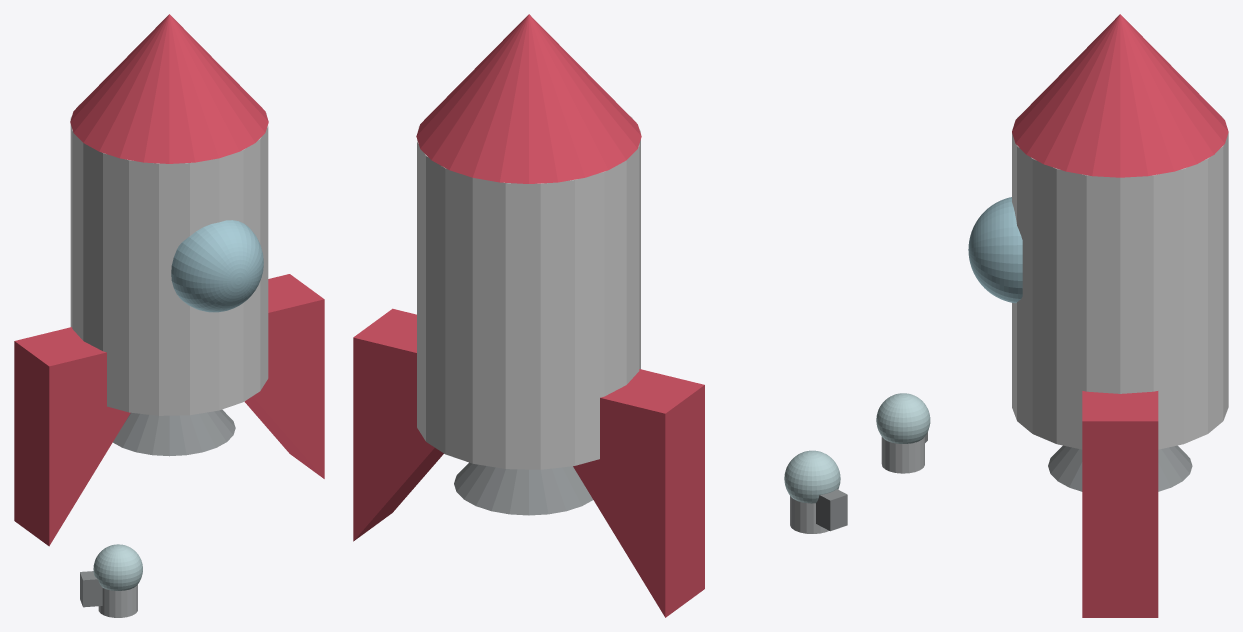
The model's file is spaceship.glb.
3 views of the same model, side by side, from view 1: azimuth 30°, elevation 25°; view 2: azimuth 150°, elevation 25°; view 3: azimuth 270°, elevation 25° (orthographic). The views are drawn at different scales.
Visible parts, largest first — view 1: Mesh_Mesh_head_geo.001_lambert2SG.001; view 2: Mesh_Mesh_head_geo.001_lambert2SG.001; view 3: Mesh_Mesh_head_geo.001_lambert2SG.001.
Boxes of the visible parts, x1,y1,x2,y2 form: Mesh_Mesh_head_geo.001_lambert2SG.001: (14,14,324,617); Mesh_Mesh_head_geo.001_lambert2SG.001: (353,14,847,617); Mesh_Mesh_head_geo.001_lambert2SG.001: (876,14,1228,617).
Bounding box in the file's own units: 37.36 × 54 × 32.5.
